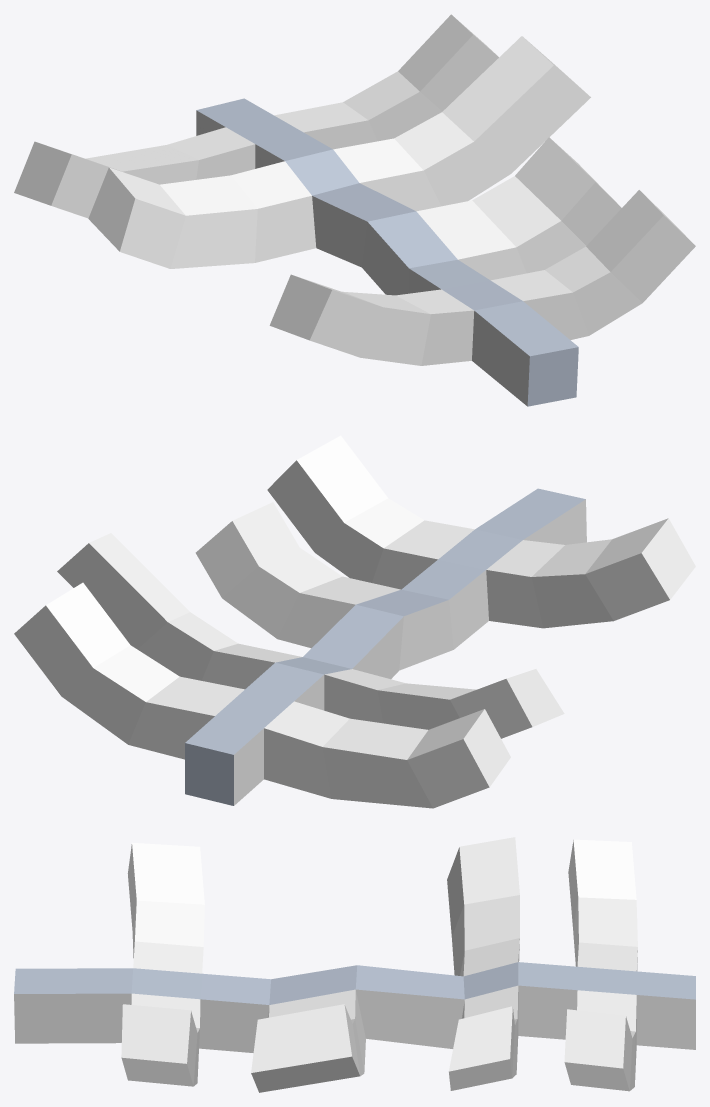
File: bones.glb
The picture shows the model from 3 angles, top to bottom: view 1: azimuth 30°, elevation 25°; view 2: azimuth 150°, elevation 25°; view 3: azimuth 270°, elevation 25°; orthographic projection.
Parts seen in each view (by area): view 1: Bones; view 2: Bones; view 3: Bones.
Boxes of the visible parts, box(x1,y1,x2,y2) form: Bones: box(14, 14, 695, 406); Bones: box(14, 435, 695, 808); Bones: box(14, 837, 695, 1092).
Bounding box in the file's own units: 0.6745 × 0.1845 × 0.8154.
Materials: 1 (1 with a texture image).
